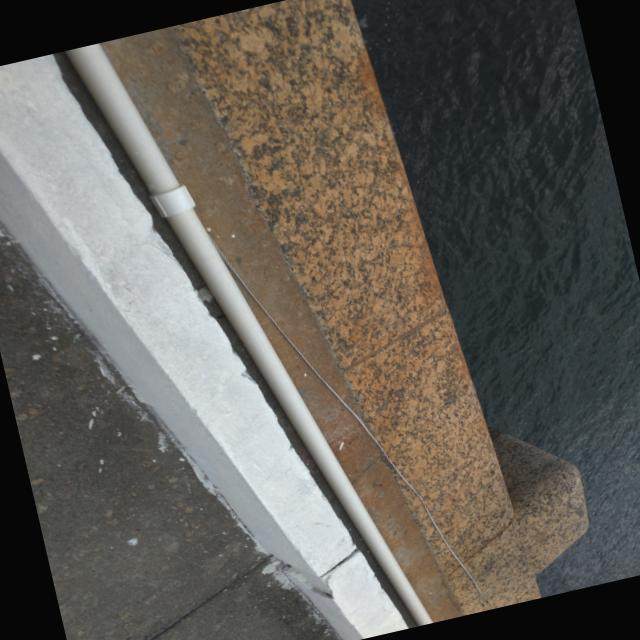gas: (65, 43, 430, 625)
